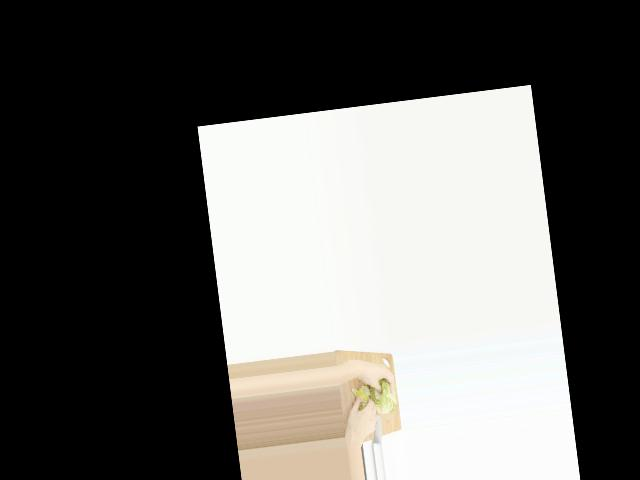lettuce: (370, 379, 397, 415)
